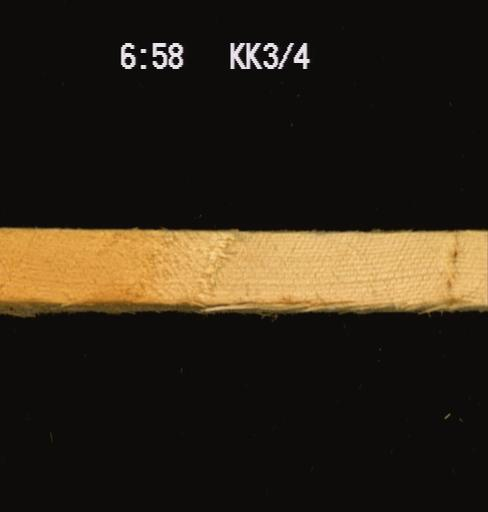small_knot: (426, 234, 485, 302)
